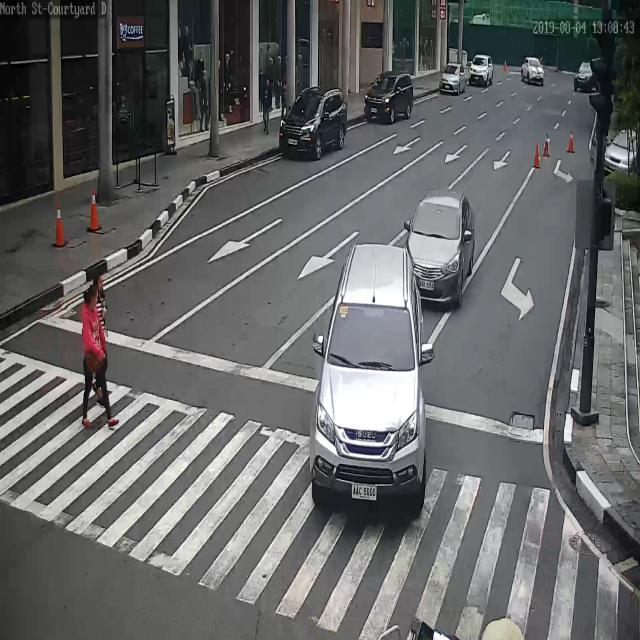car: (316, 236, 424, 516), (398, 187, 477, 306), (279, 85, 350, 161), (364, 72, 416, 125), (603, 128, 640, 179), (440, 62, 470, 95), (469, 55, 495, 87), (575, 60, 600, 93), (523, 54, 546, 85)
